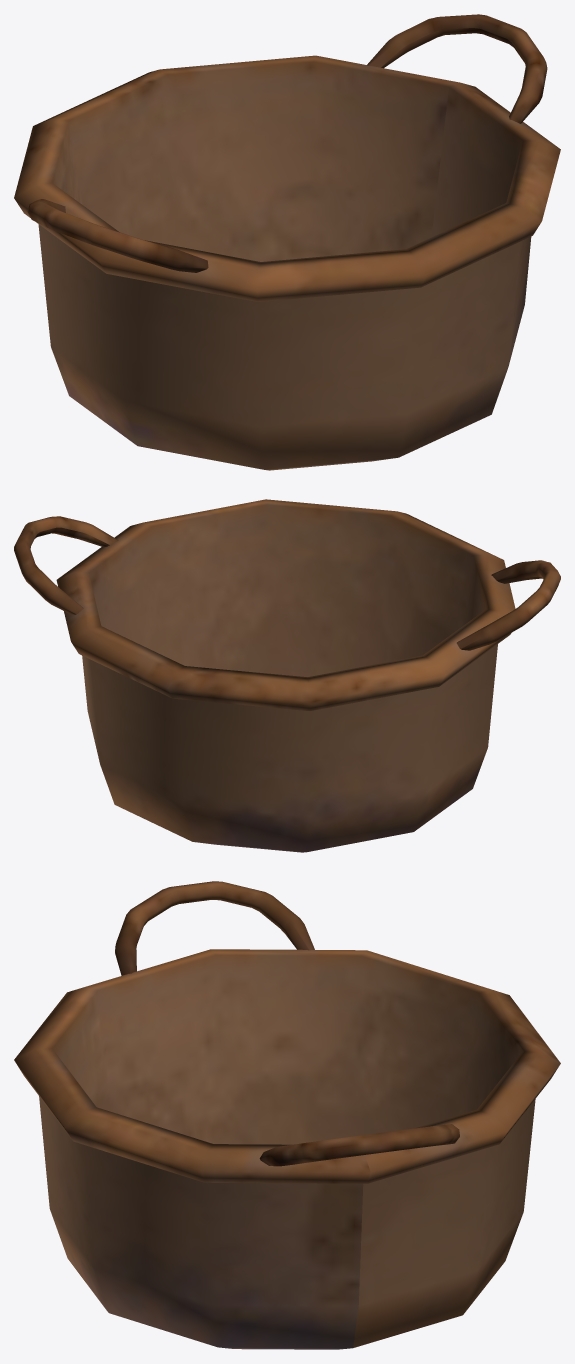
File: pot1.fbx
3 renders of one model, top to bottom at view 1: azimuth 30°, elevation 25°; view 2: azimuth 150°, elevation 25°; view 3: azimuth 270°, elevation 25°, orthographic. The views are drawn at different scales.
Visible parts, largest first — view 1: Strove.001; view 2: Strove.001; view 3: Strove.001.
Boxes of the visible parts, x1,y1,x2,y2 form: Strove.001: (14,14,560,470); Strove.001: (14,499,560,852); Strove.001: (14,881,560,1349).
Size of the model in its own units: 40.02 by 19.86 by 35.14.
1 material, 1 textured.
